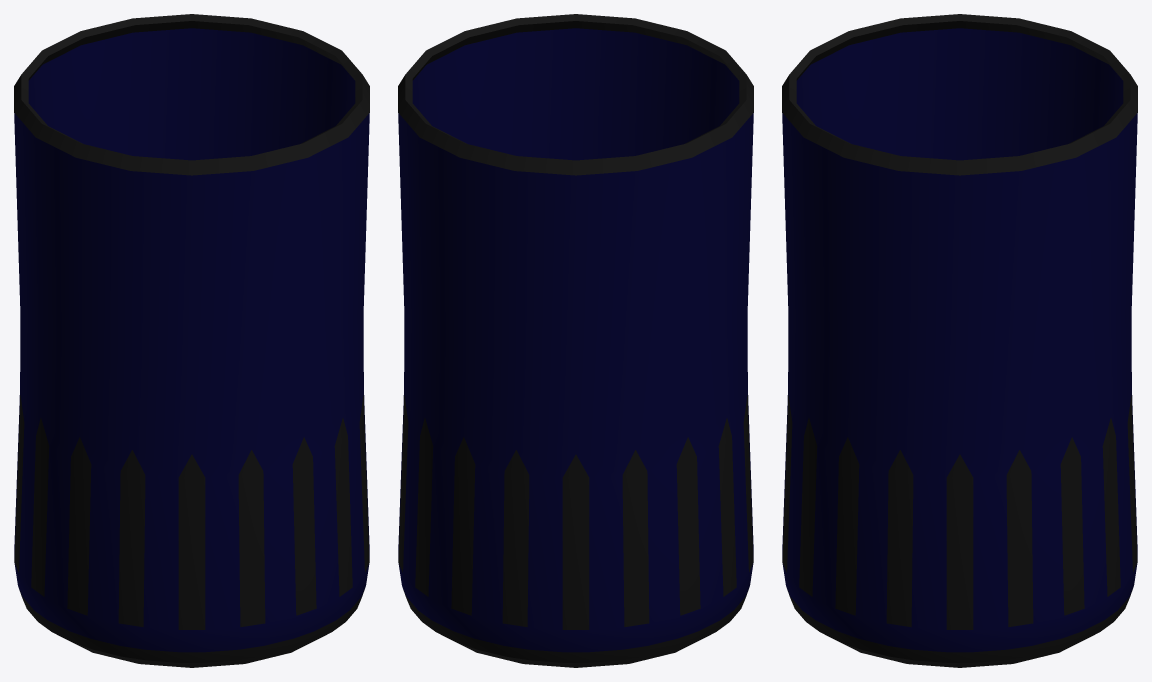
File: Glass 2.fbx
3 views of the same model, side by side, from view 1: azimuth 30°, elevation 25°; view 2: azimuth 150°, elevation 25°; view 3: azimuth 270°, elevation 25° (orthographic).
Visible parts, largest first — view 1: Glass 2; view 2: Glass 2; view 3: Glass 2.
Boxes of the visible parts, x1,y1,x2,y2 form: Glass 2: [14, 14, 369, 667]; Glass 2: [398, 14, 753, 667]; Glass 2: [782, 14, 1137, 667].
Bounding box in the file's own units: 6.27 × 9.86 × 6.17.
